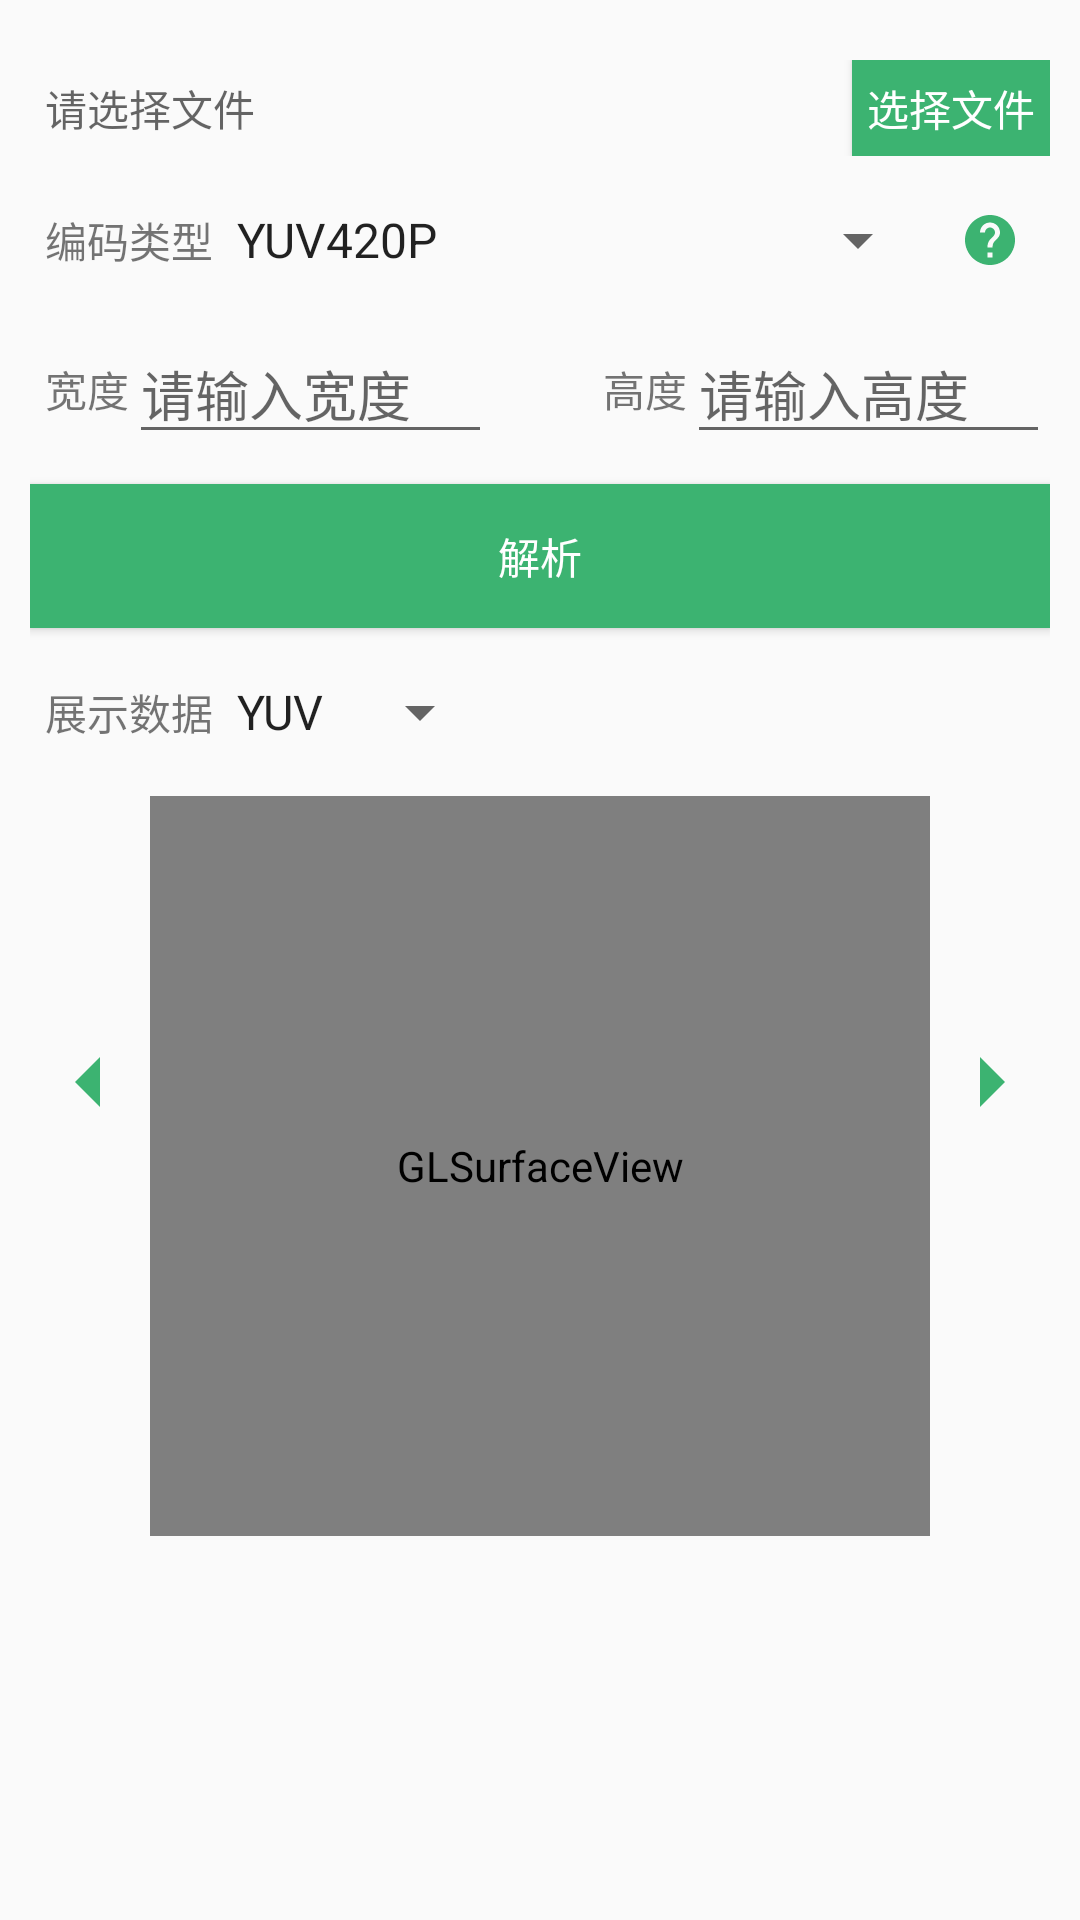

Icons on this 1080x1920 Android screen, each with the point to tap as point (x, y):
help: point (990, 240)
